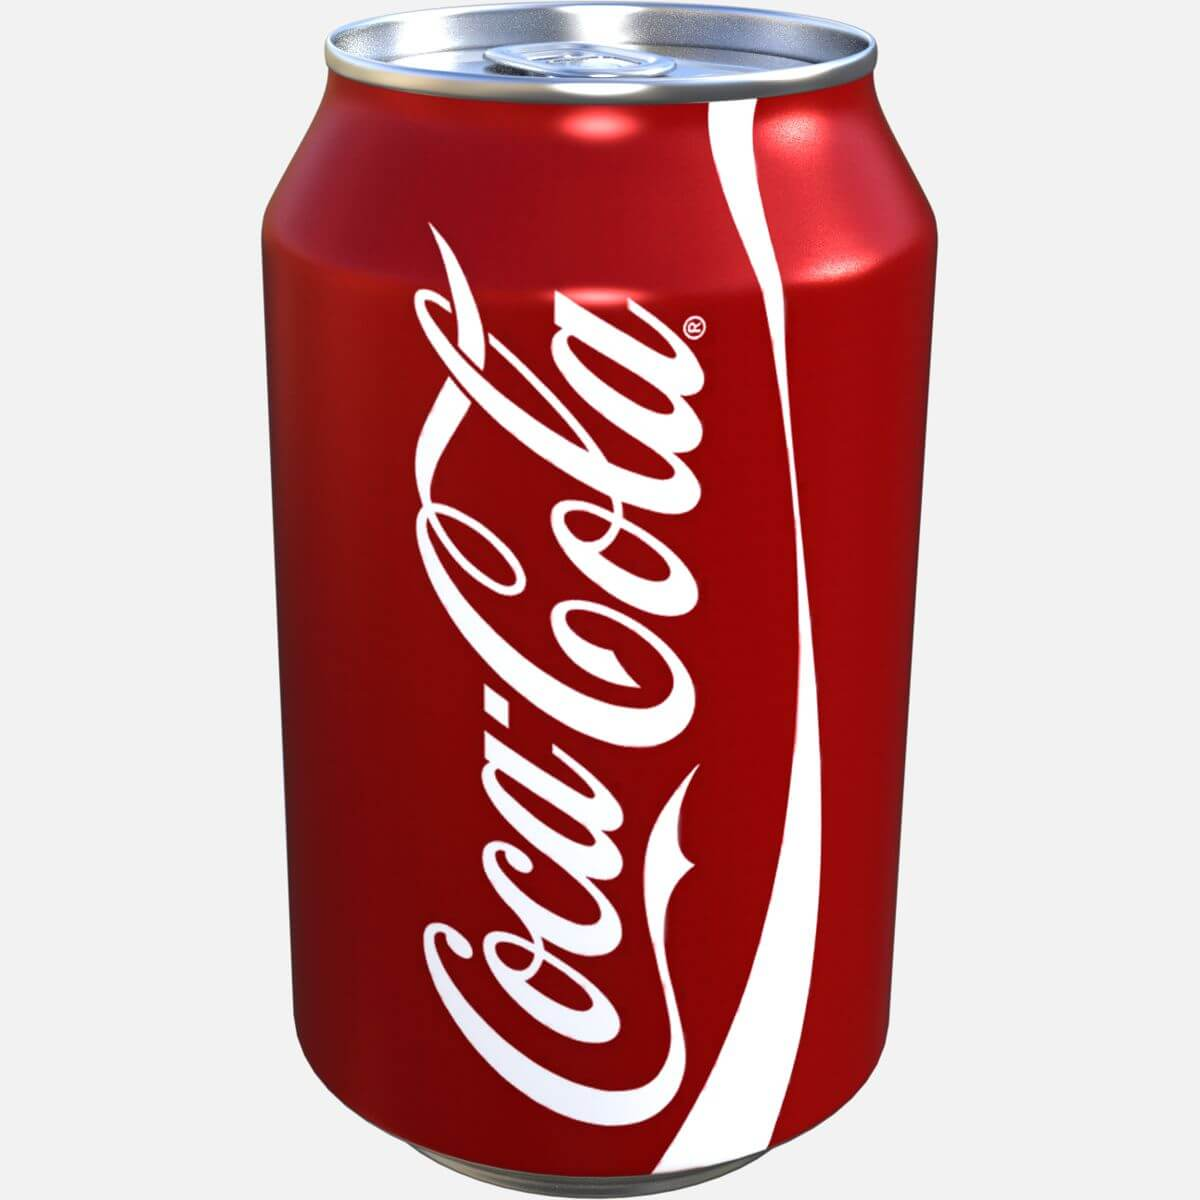coke: (403, 213, 730, 1140)
